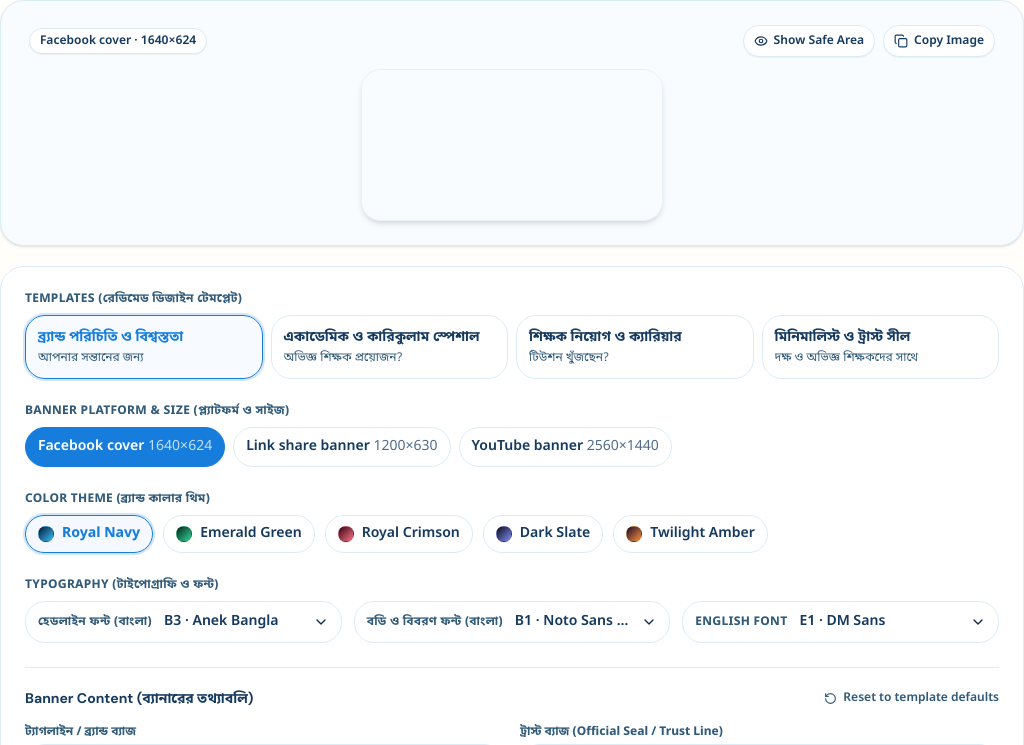
Test case: BannerStudioContent › toggles the platform safe-zone overlay guide
Click the button "Show Safe Area".
click(809, 41)  # box [743,25,875,57]
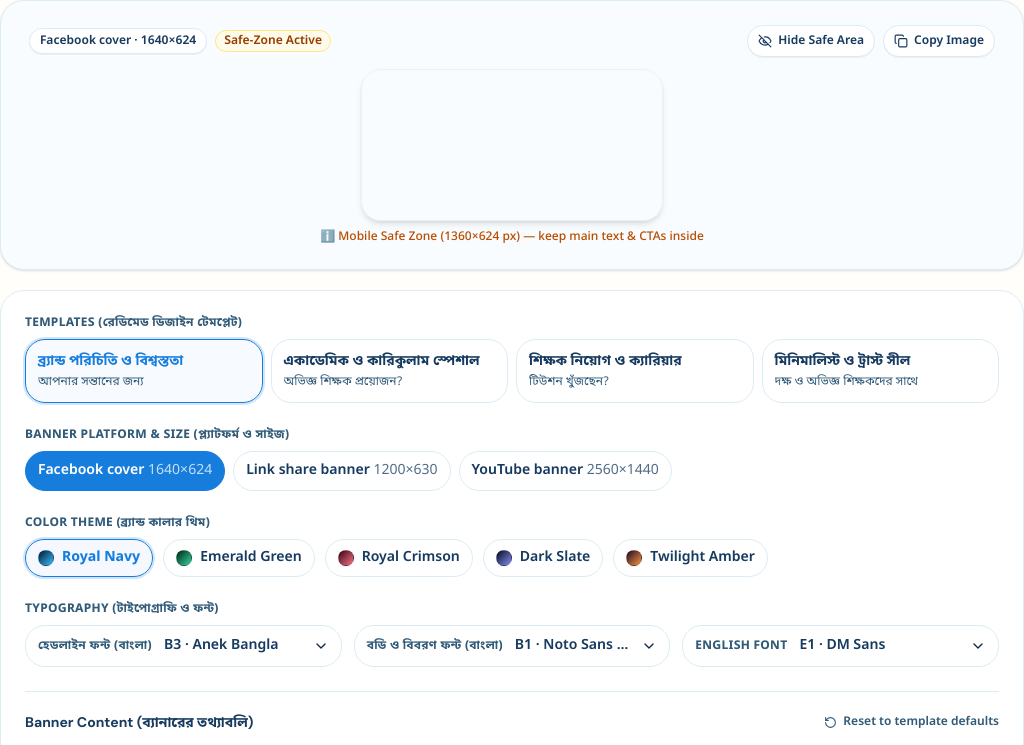
Check: the text "Mobile Safe Zone" is shown, box [338,229,704,245]
